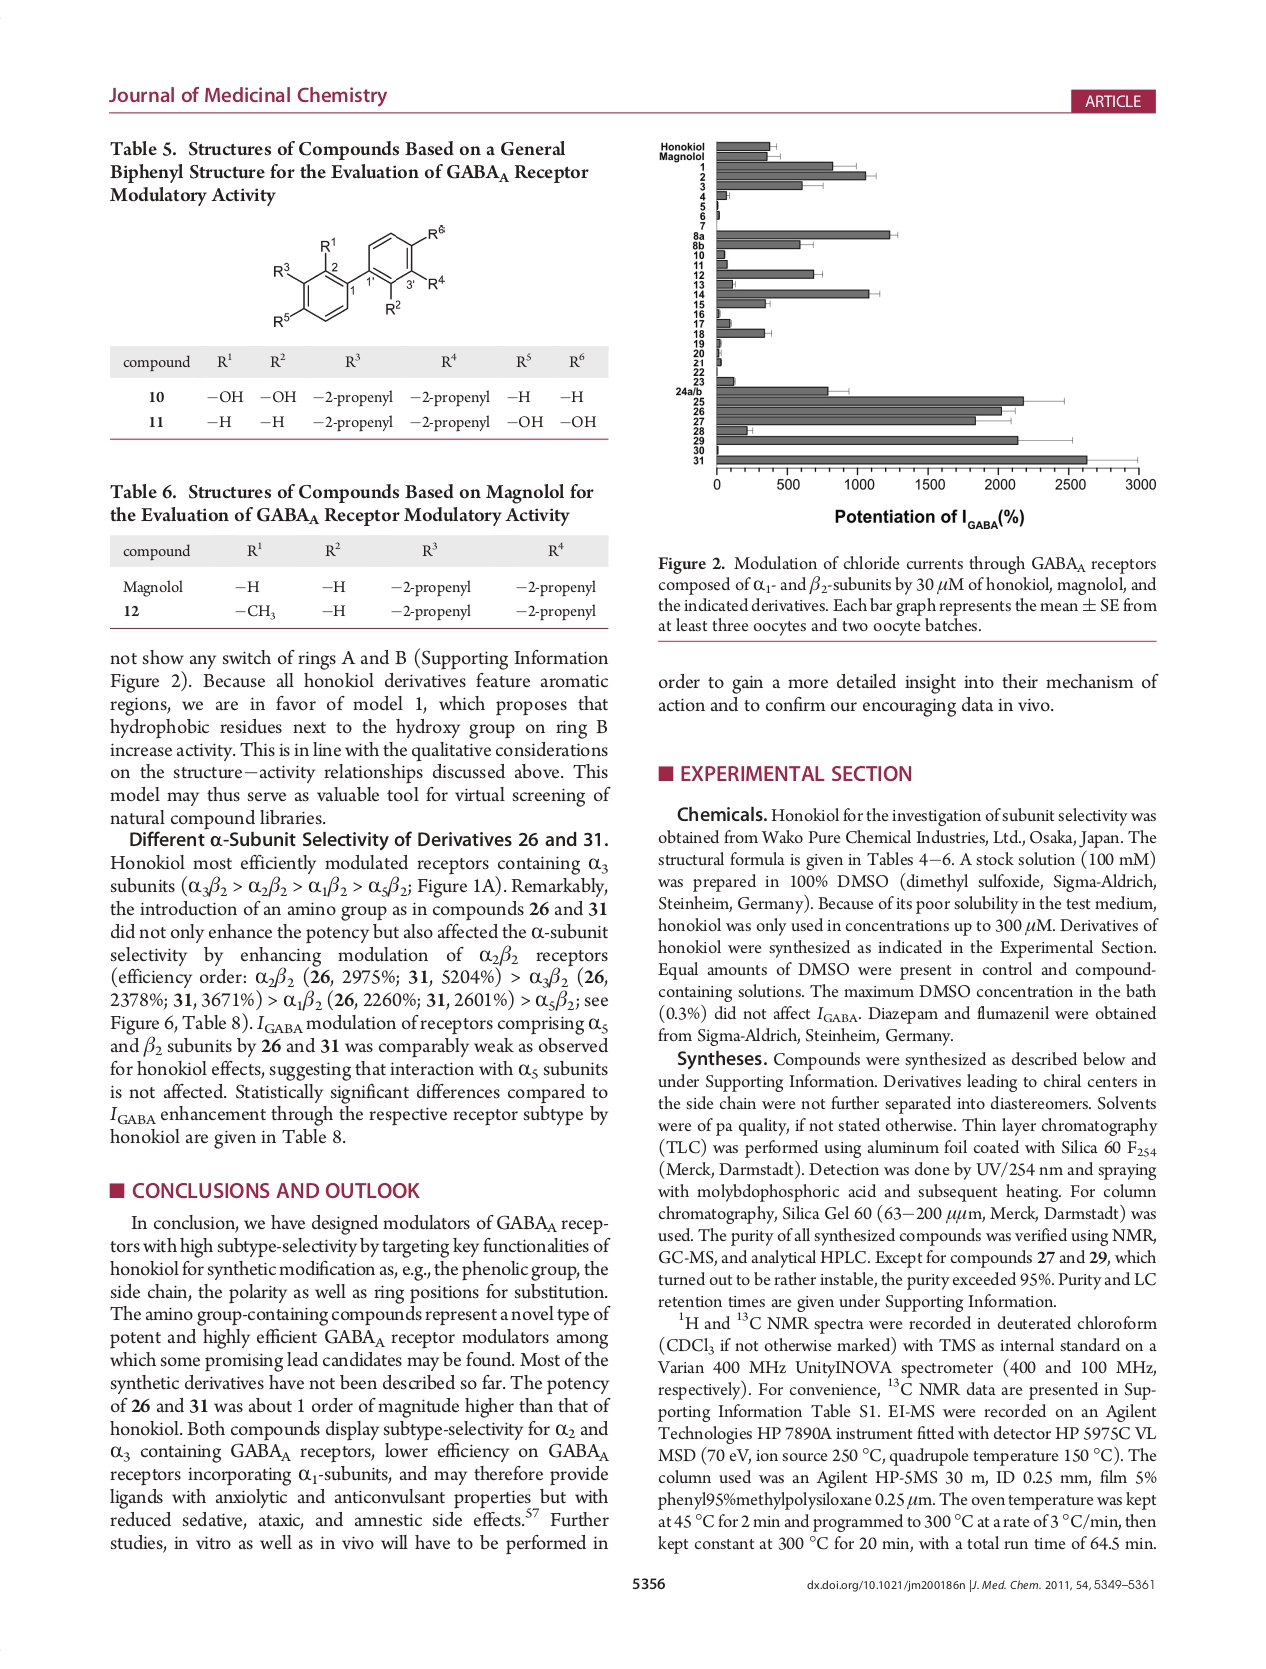exist_molecular: (269, 219, 449, 330)
